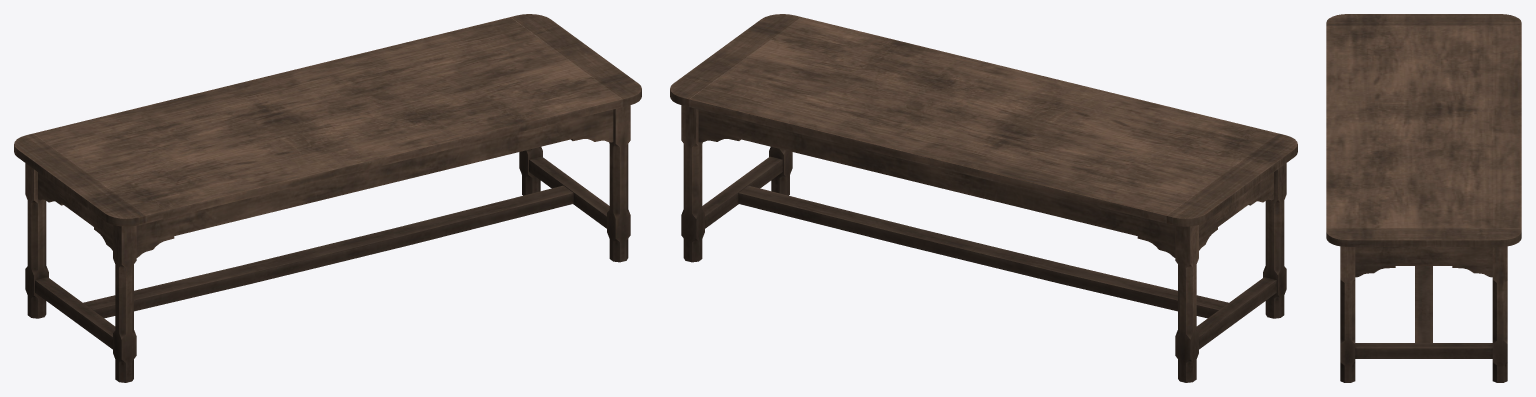
The model's file is ph_table.gltf.
The picture shows the model from 3 angles, left to right: view 1: azimuth 30°, elevation 25°; view 2: azimuth 150°, elevation 25°; view 3: azimuth 270°, elevation 25°; orthographic projection. The views are drawn at different scales.
Visible parts, largest first — view 1: ph_table; view 2: ph_table; view 3: ph_table.
Boxes of the visible parts, x1,y1,x2,y2 form: ph_table: [14, 14, 641, 382]; ph_table: [670, 14, 1297, 382]; ph_table: [1326, 14, 1521, 382].
Bounding box in the file's own units: 1.8 × 0.5488 × 0.6572.
1 material, 1 textured.
